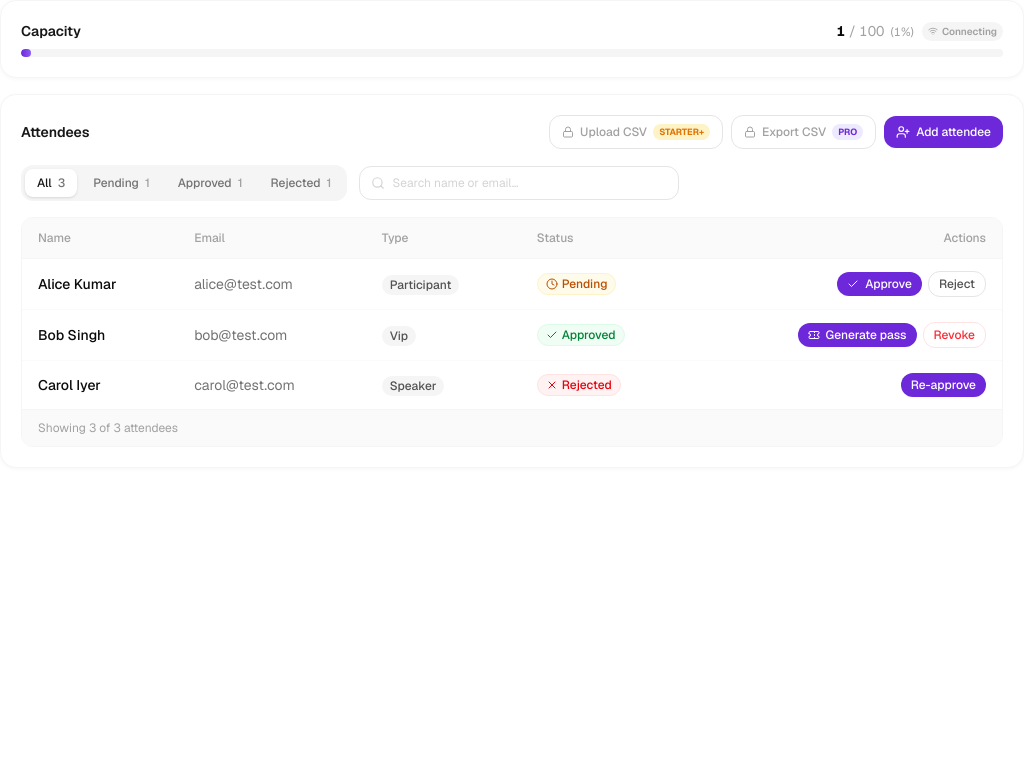
AttendeeTable › opens AddAttendeeModal when 'Add attendee' is clicked
What coordinates should you click on to do the following:
click the button "Add attendee"
I would click on:
 (944, 132)
Its box is [884,116,1003,148].
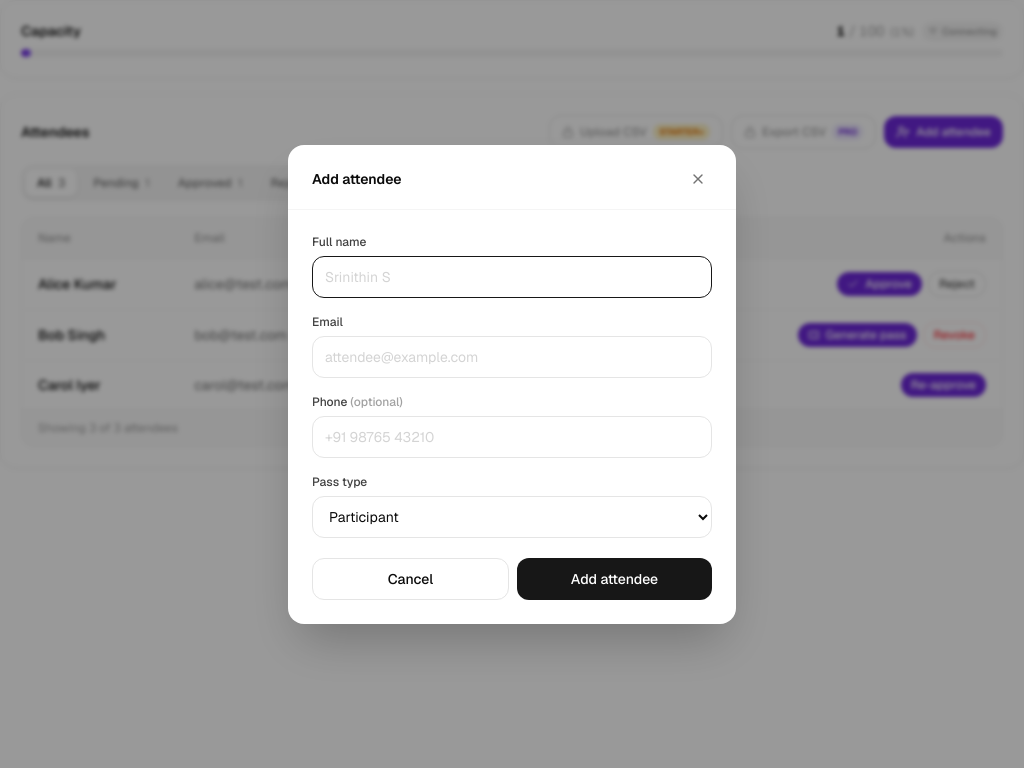
Expected: the text "Full name" is shown, [312,234,366,250]
